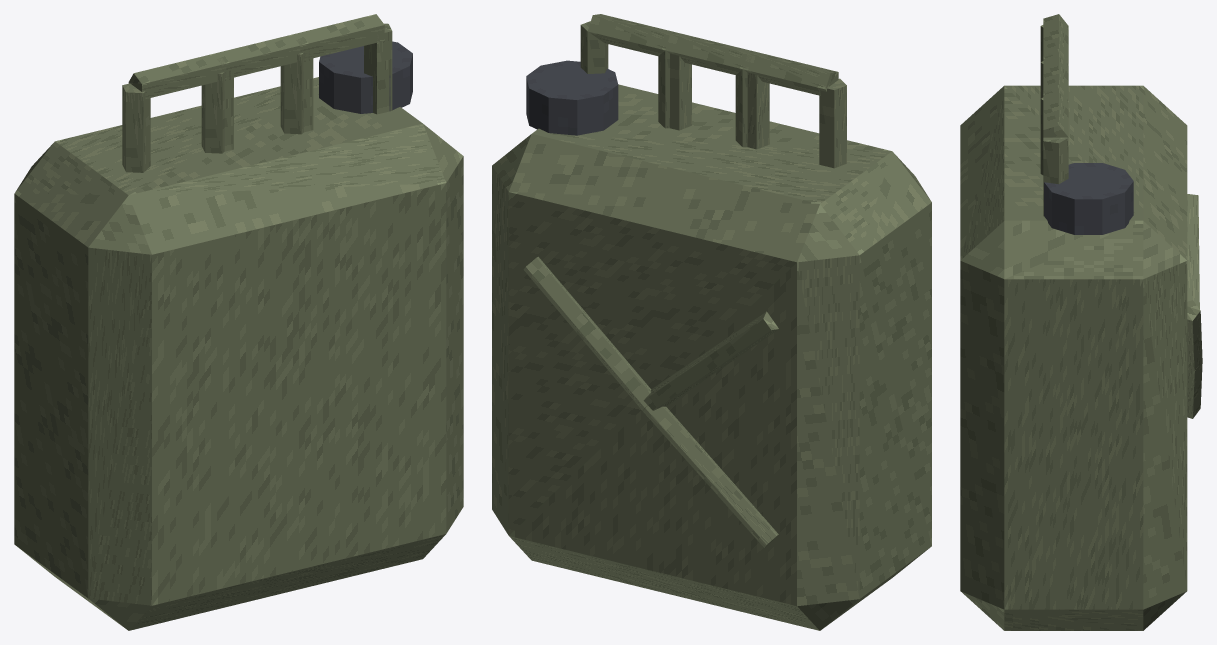
Rendered from jerrycan_big.glb.
The picture shows the model from 3 angles, left to right: view 1: azimuth 30°, elevation 25°; view 2: azimuth 150°, elevation 25°; view 3: azimuth 270°, elevation 25°; orthographic projection. The views are drawn at different scales.
Parts seen in each view (by area): view 1: block_stamped tank, block_carrying handle 1 (×3), block_carrying handle 0 (×3), block_pouring cap, block_carrying handle 2 (×3); view 2: block_stamped tank, block_pressed reinforcement 1 (×2), block_carrying handle 1 (×3), block_pouring cap, block_carrying handle 0 (×3), block_pressed reinforcement 0, block_carrying handle 2 (×3); view 3: block_stamped tank, block_pouring cap, block_carrying handle 1 (×3), block_pressed reinforcement 1 (×2), block_carrying handle 2, block_pressed reinforcement 0.
Boxes of the visible parts, x1,y1,x2,y2 form: block_stamped tank: (14, 77, 463, 630); block_carrying handle 1 (×3): (128, 14, 384, 98); block_carrying handle 0 (×3): (122, 53, 303, 172); block_pouring cap: (319, 41, 412, 113); block_carrying handle 2 (×3): (224, 23, 392, 151); block_stamped tank: (492, 84, 931, 630); block_pressed reinforcement 1 (×2): (523, 256, 778, 410); block_carrying handle 1 (×3): (587, 14, 838, 95); block_pouring cap: (526, 60, 618, 135); block_carrying handle 0 (×3): (670, 53, 846, 168); block_pressed reinforcement 0: (643, 406, 778, 547); block_carrying handle 2 (×3): (580, 21, 747, 147); block_stamped tank: (960, 85, 1187, 630); block_pouring cap: (1044, 163, 1133, 234); block_carrying handle 1 (×3): (1043, 14, 1068, 137); block_pressed reinforcement 1 (×2): (1187, 194, 1202, 371); block_carrying handle 2: (1043, 137, 1068, 216); block_pressed reinforcement 0: (1187, 361, 1202, 418).
Bounding box in the file's own units: 0.3494 × 0.47 × 0.2075.
1 material, 1 textured.
